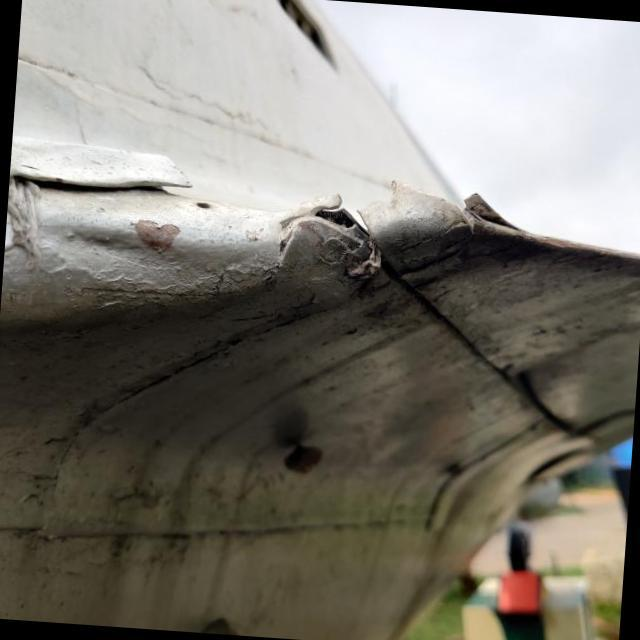Rupture: (387, 167, 542, 252), (288, 169, 388, 260)
